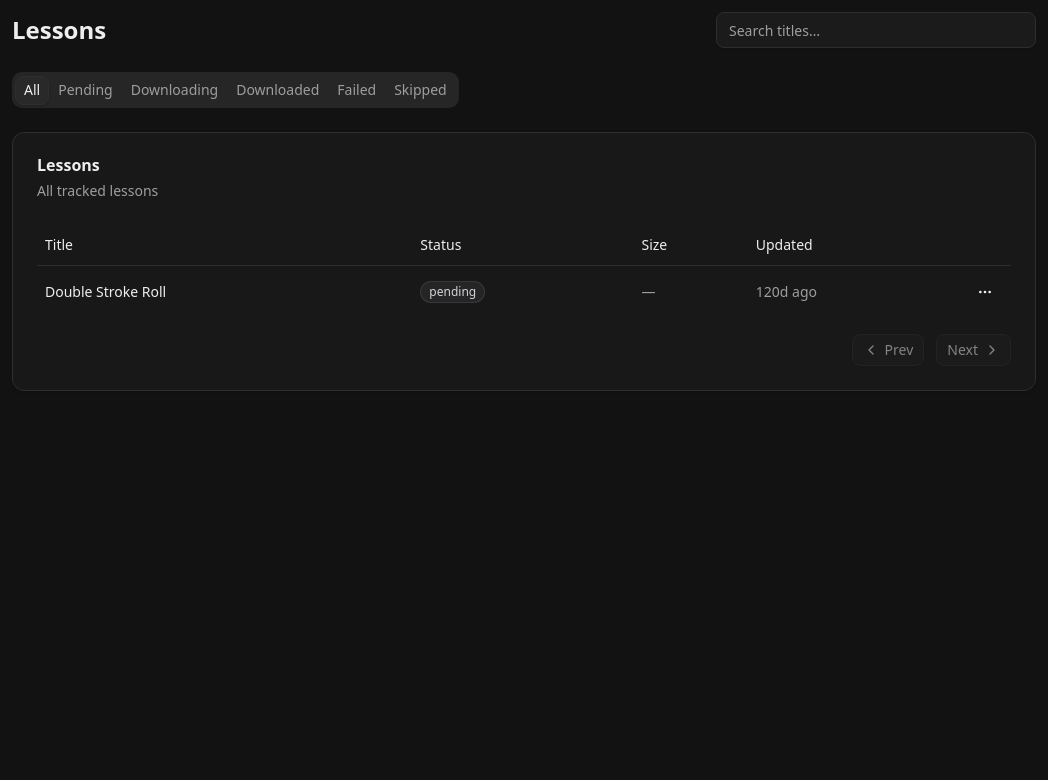
Test: a row action raced by something done elsewhere is a neutral note, and the list refreshes › Download answered 404 because a Skip elsewhere took it off the queue: the same note, and the row stays
Click the button named "Actions for Double Stroke Roll". click: click(985, 292)
box: [967,274,1003,310]
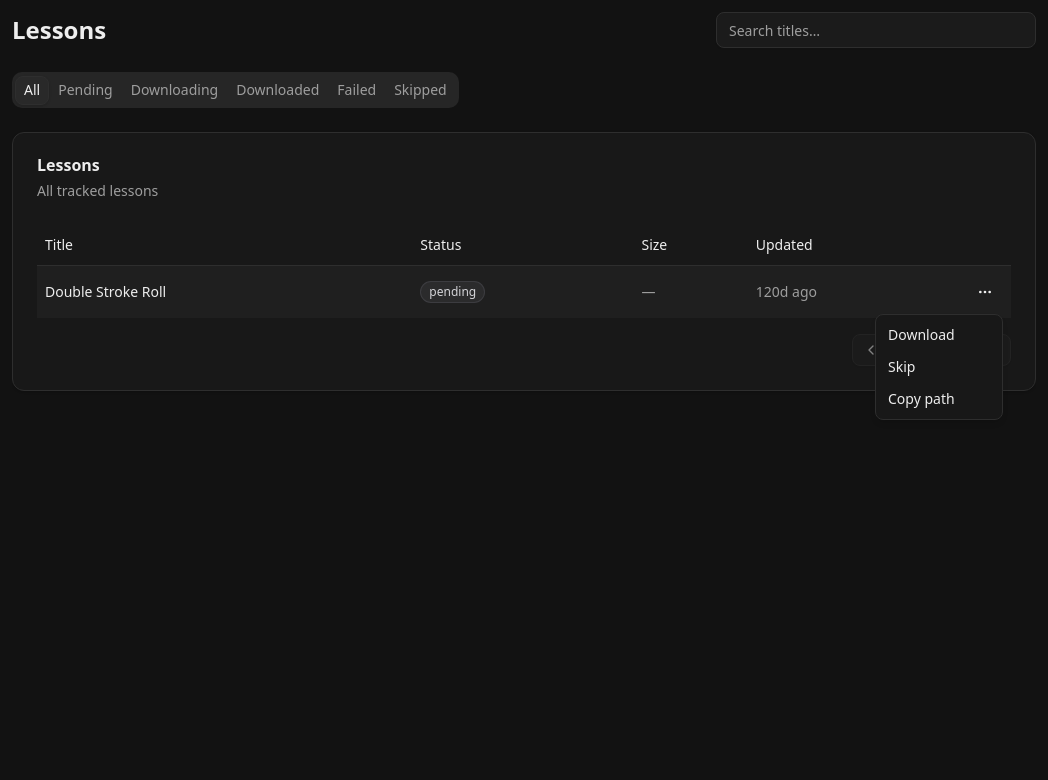
Click the menu item "Download". click: click(921, 334)
box: [888,325,955,344]
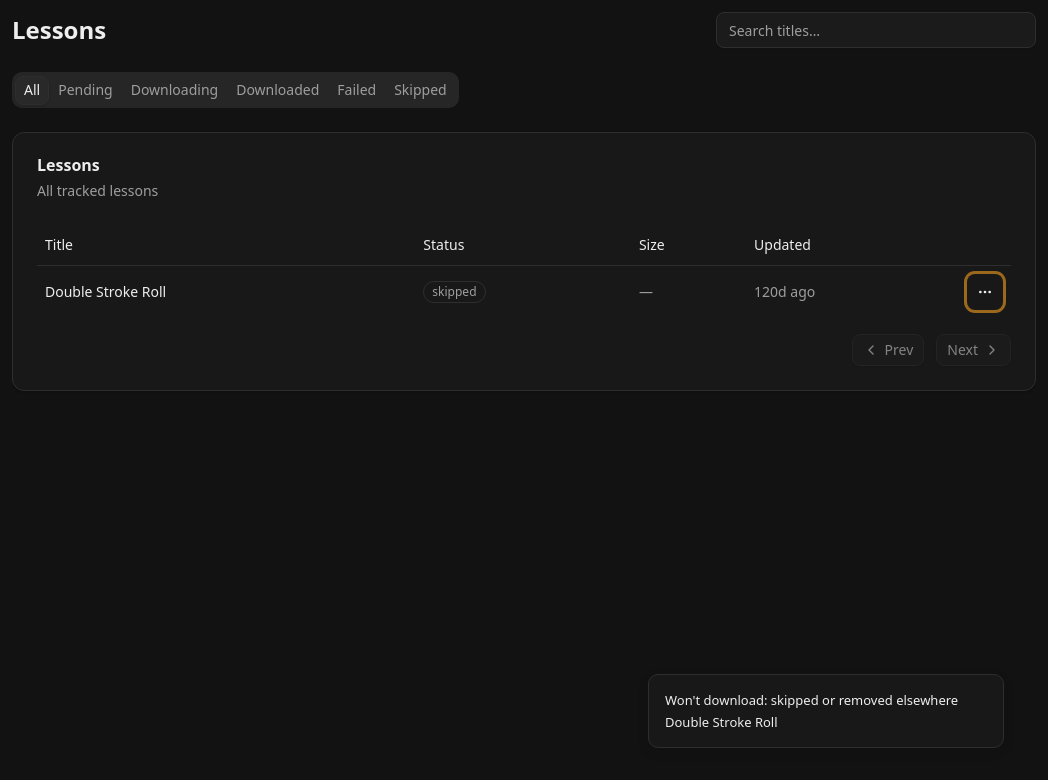
Expected: the button named "Actions for Double Stroke Roll" is shown, [967,274,1003,310]
Result: the text "Double Stroke Roll" is shown at [665,713,778,731]
